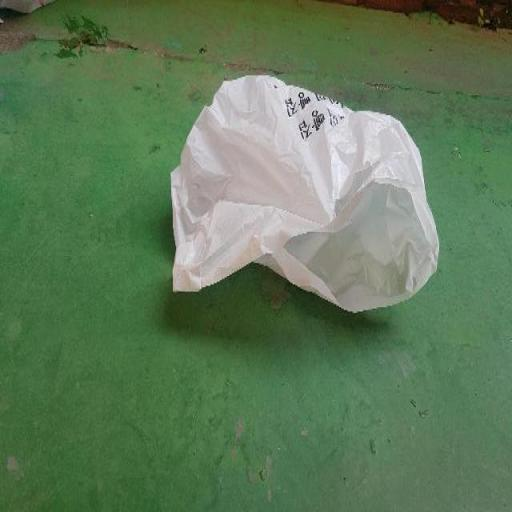plastic-bag: (171, 72, 446, 320)
